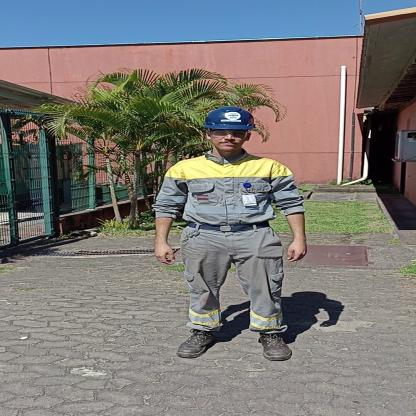Capacete: (201, 106, 259, 130)
